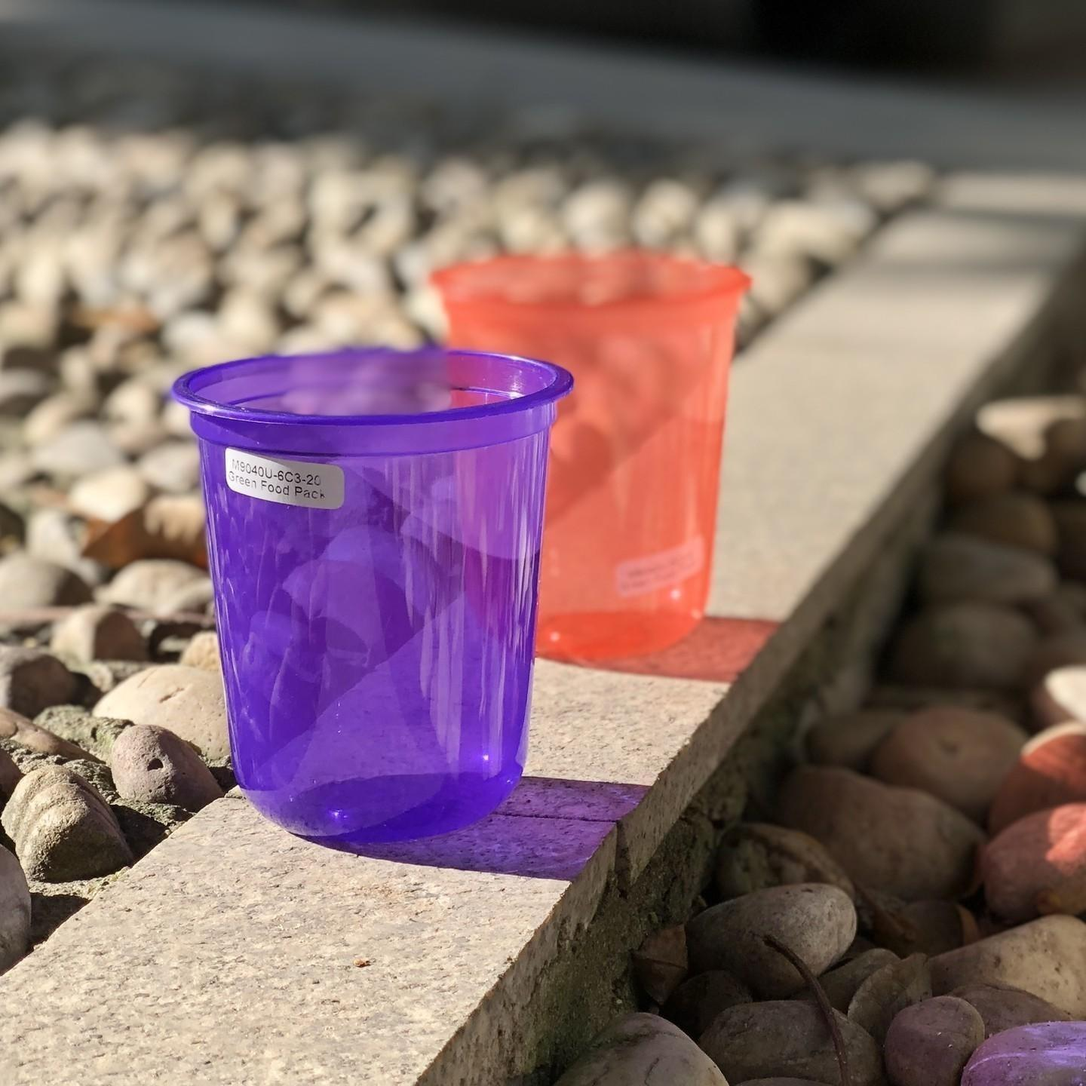cup-disposable: (170, 331, 572, 858), (434, 243, 761, 673)
